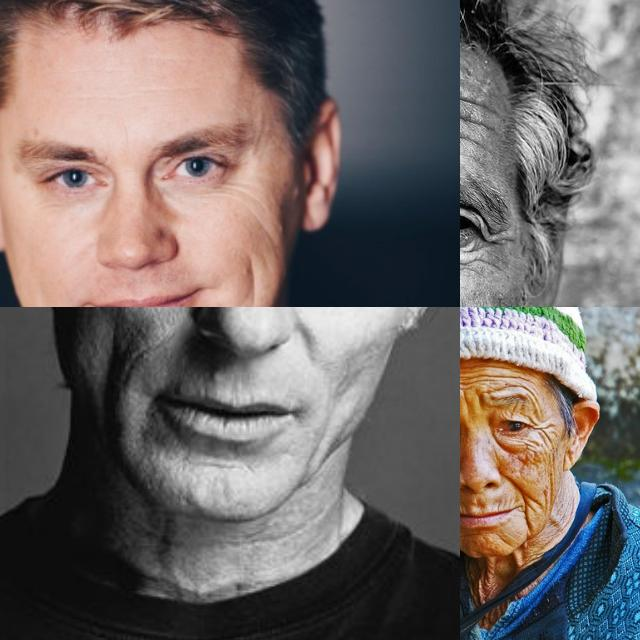chin: (494, 532, 514, 546)
crows_feet: (479, 212, 513, 264), (217, 177, 256, 201), (528, 420, 552, 440)
forehead: (460, 87, 491, 156), (494, 366, 528, 386), (460, 366, 484, 391)
frown_line: (460, 390, 475, 417)
gummy_smile: (184, 452, 260, 478), (120, 336, 156, 388), (291, 312, 319, 360), (498, 470, 530, 500)
masseter: (235, 250, 260, 307), (256, 215, 282, 253), (544, 450, 560, 488)
sad_smile: (520, 507, 536, 538)
